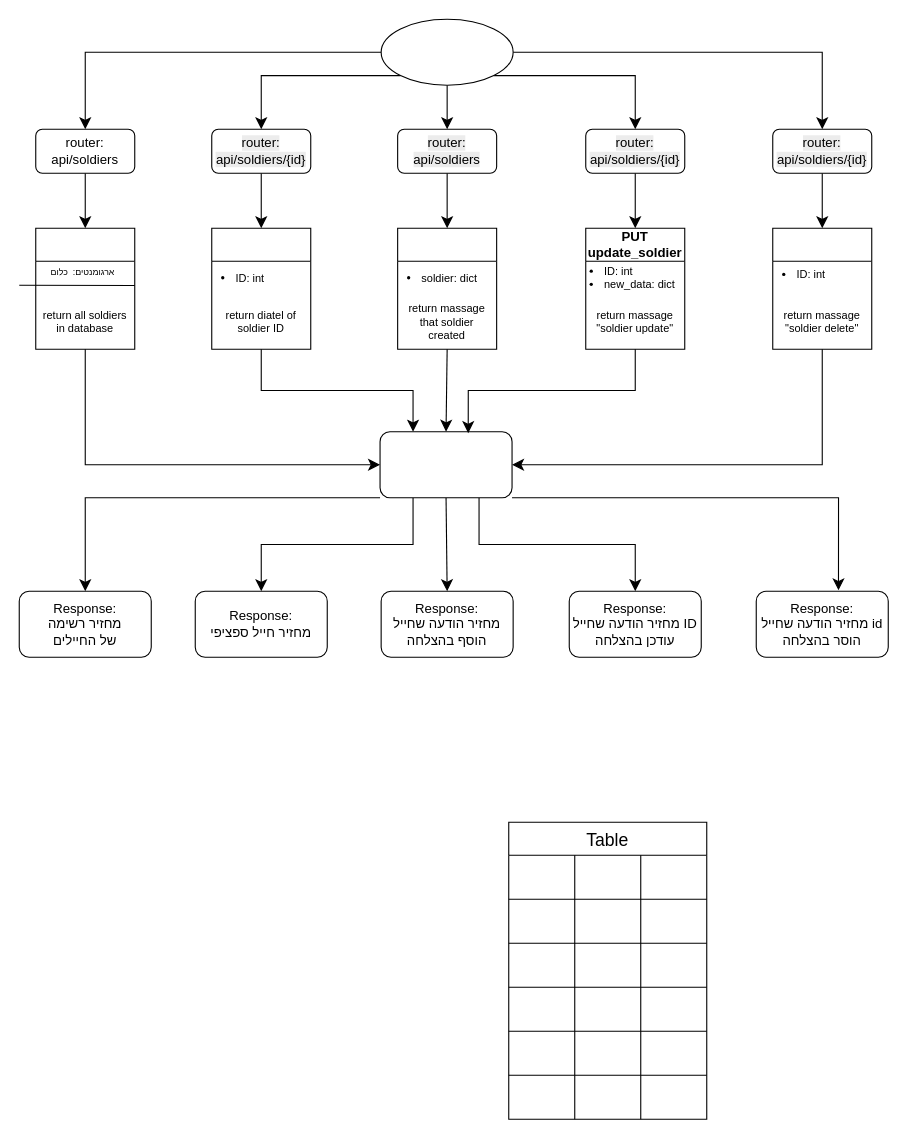
This 908x1139 diagram has some shape labels left out. The shapes that lost their labels are listed below. From the top down, each one's box as (x1, y1, x2, y2) in pixels, then its label:
(380, 18, 513, 85): client
(35, 227, 135, 349): GET get_all_soldier
(211, 227, 311, 349): GET/Path get_soldier
(397, 227, 497, 349): POST create_soldier
(772, 227, 872, 349): DELETE delete_soldier
(379, 431, 512, 498): JSON: file with the data
